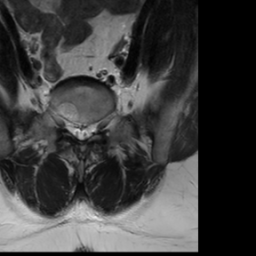CCS_stenosis: (76, 114, 85, 147)
LFS_normal: (93, 115, 102, 140)
LLS_normal: (85, 116, 93, 142)
RFS_normal: (61, 109, 68, 136)
RLS_normal: (68, 116, 76, 141)
